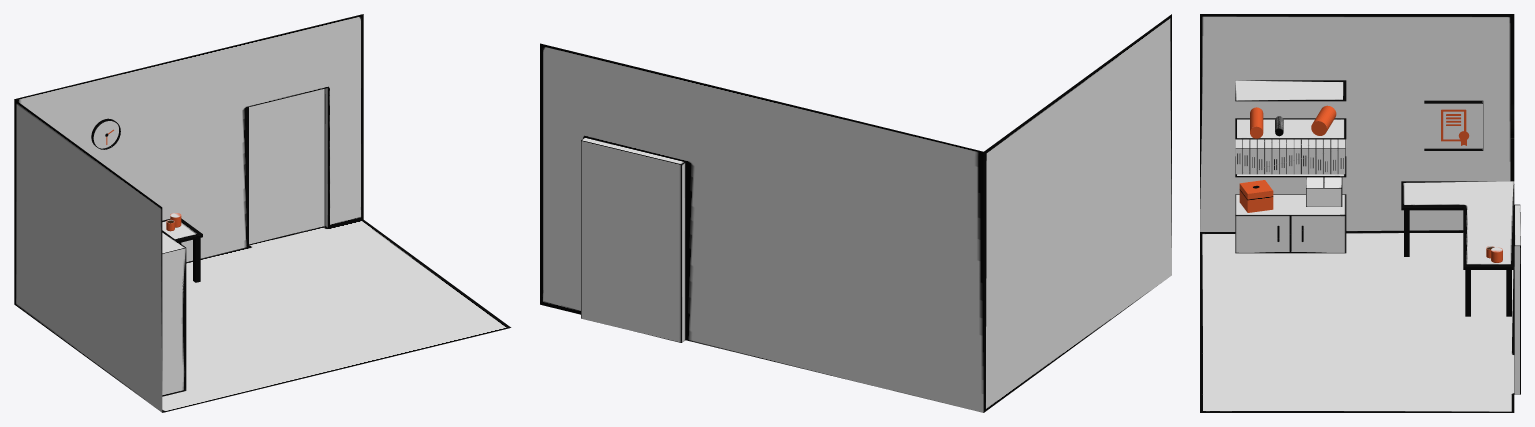
Rendered from office4.fbx.
3 views of the same model, side by side, from view 1: azimuth 30°, elevation 25°; view 2: azimuth 150°, elevation 25°; view 3: azimuth 270°, elevation 25° (orthographic). The views are drawn at different scales.
Visible parts, largest first — view 1: Cube.001; view 2: Cube.001; view 3: Cube.001.
Boxes of the visible parts, left/top/right/bottom form: Cube.001: left=14, top=14, right=511, bottom=412; Cube.001: left=540, top=14, right=1171, bottom=412; Cube.001: left=1200, top=14, right=1520, bottom=412.
Size of the model in its own units: 3200 by 1800 by 2400.
Materials: 1 (1 with a texture image).
